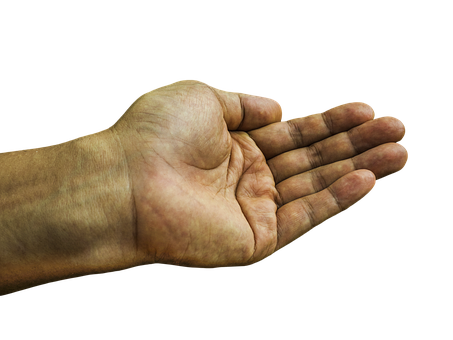palm: (163, 121, 275, 256)
